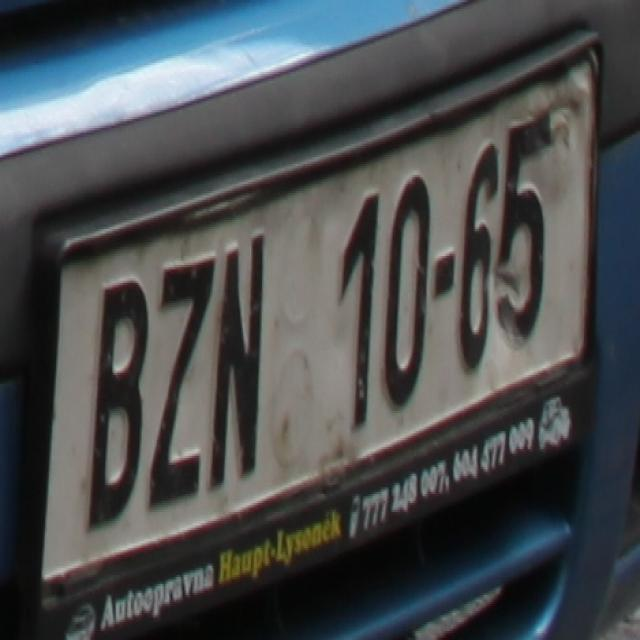0: (382, 168, 433, 416)
1: (334, 189, 380, 431)
5: (501, 105, 554, 346)
6: (453, 130, 497, 380)
B: (82, 272, 143, 528)
N: (209, 232, 266, 488)
Z: (148, 254, 212, 505)
